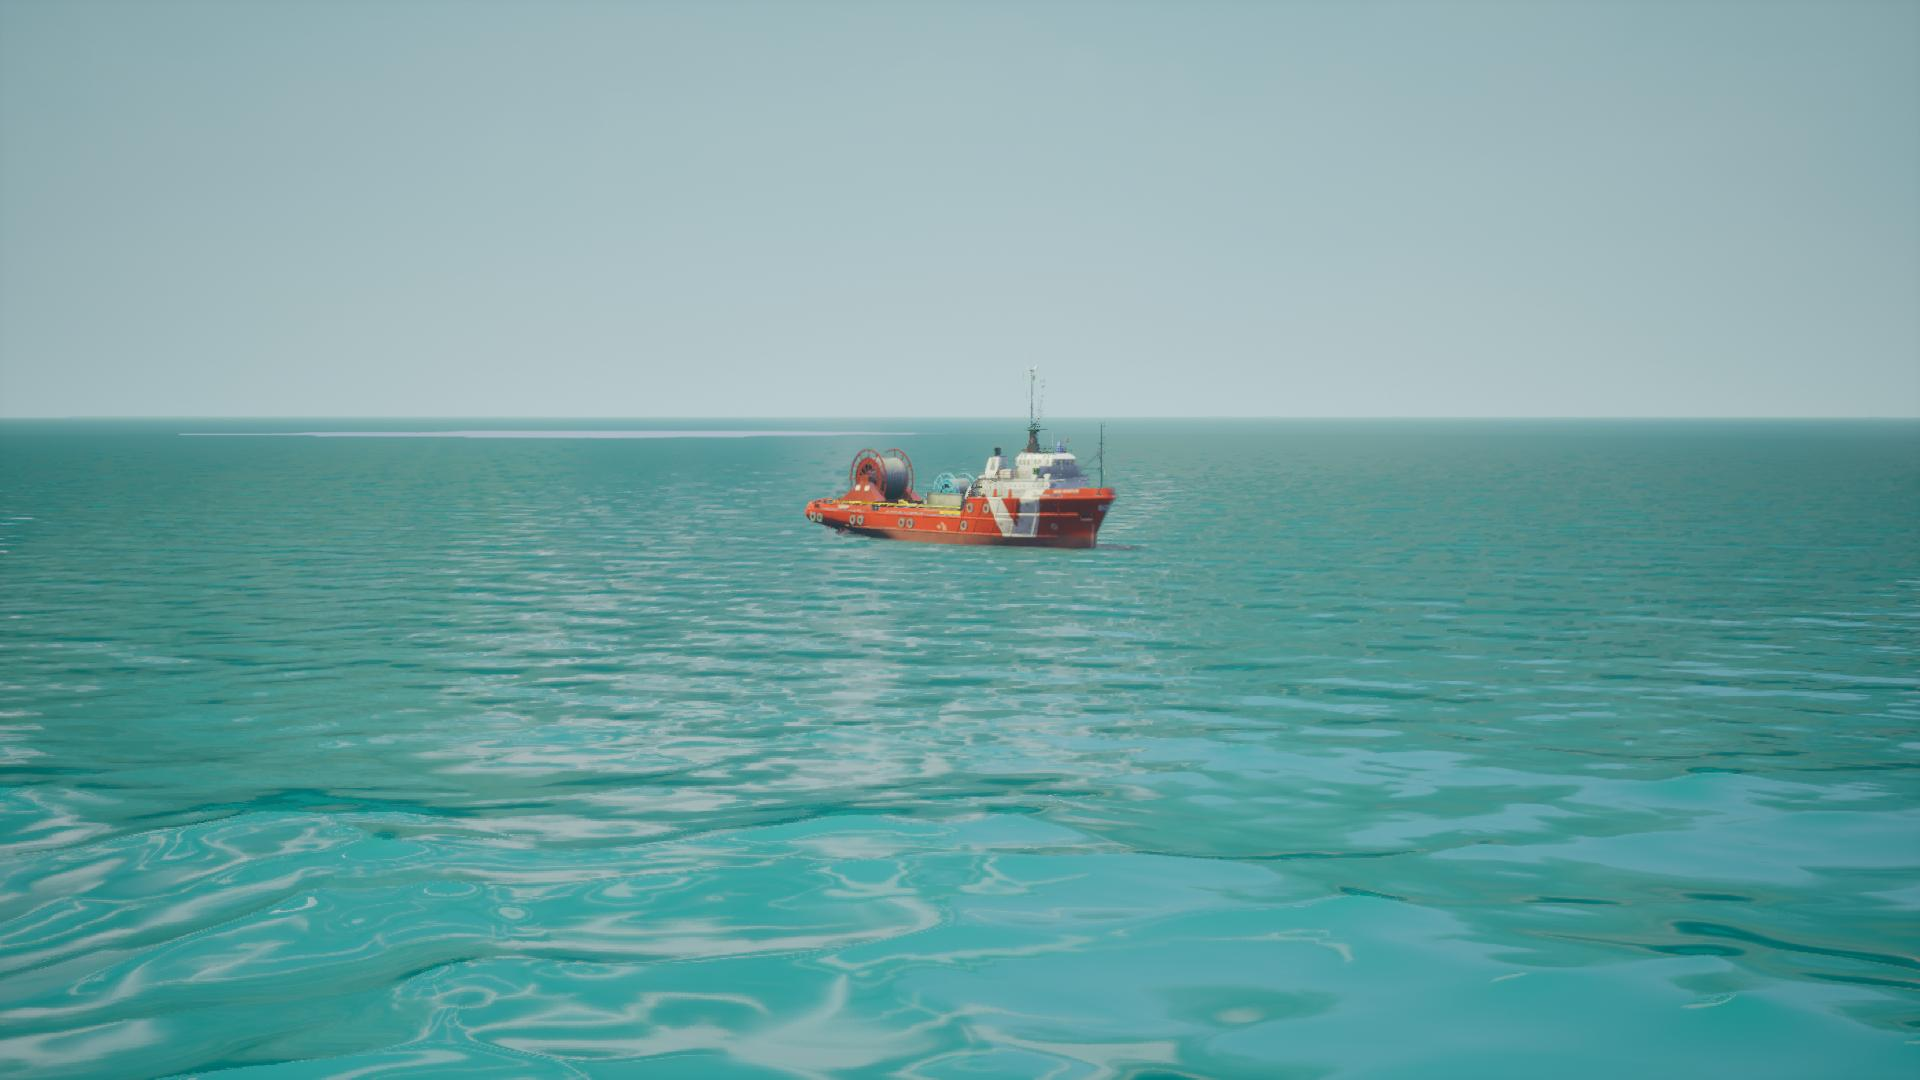Tug Boat: (808, 368, 1112, 551)
